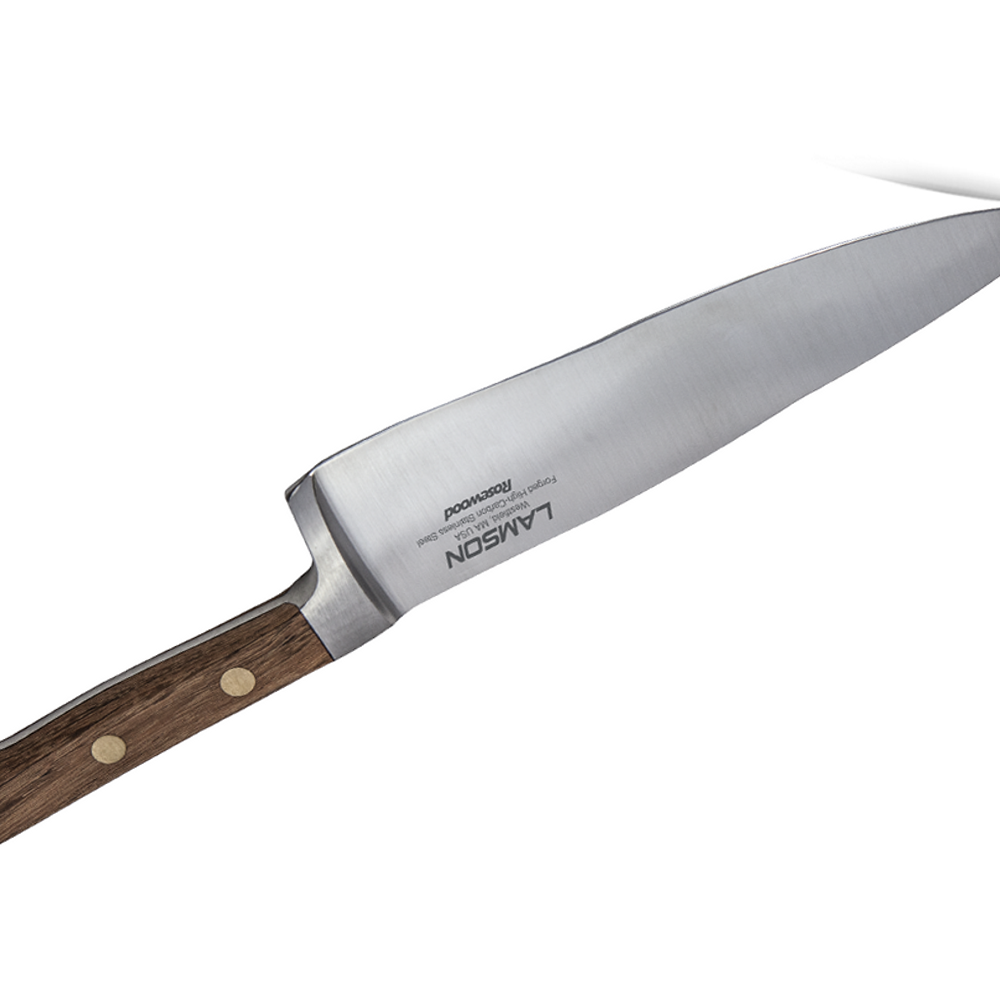knife: (3, 209, 1000, 840)
